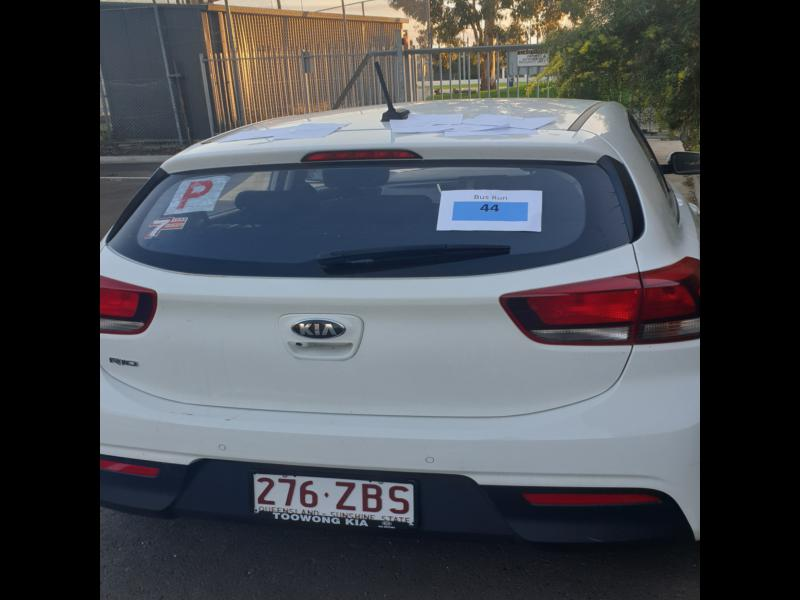BusRun: (451, 198, 530, 222)
PlateNo: (248, 471, 417, 529)
